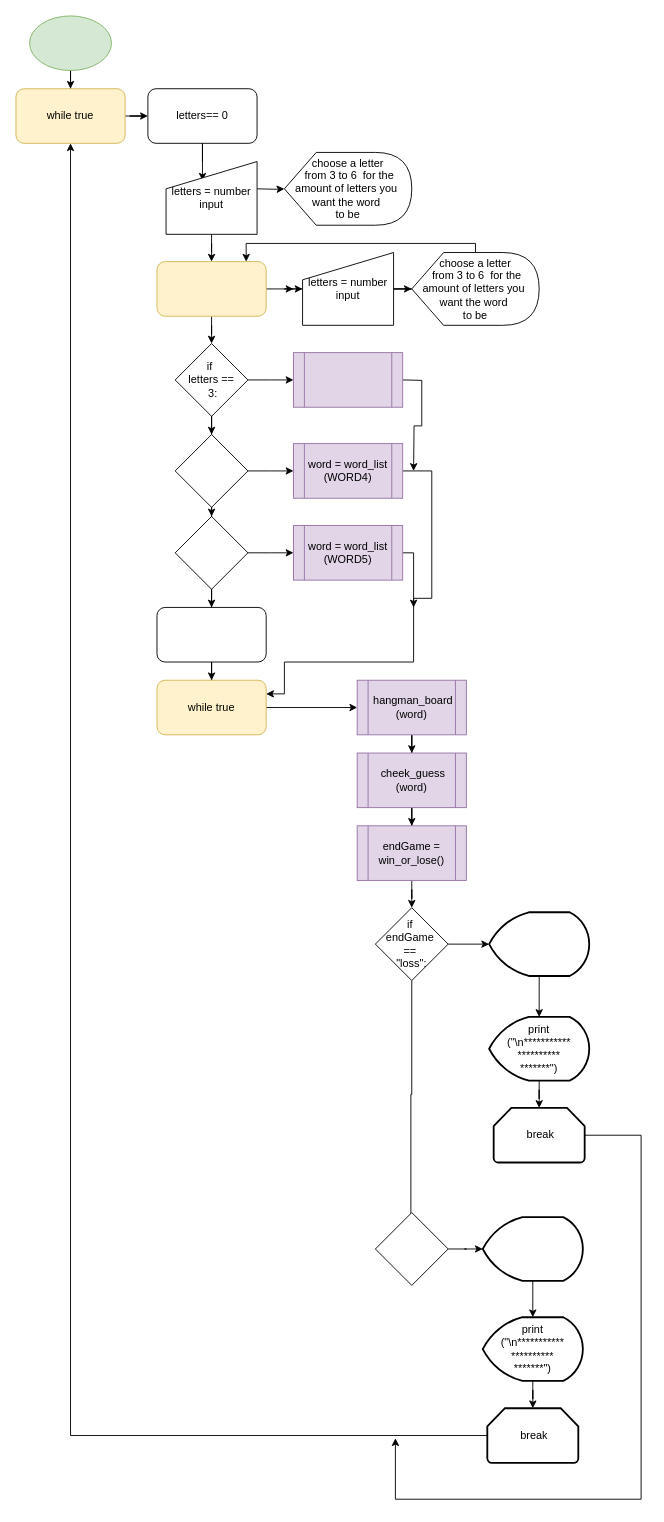
The diagram is 664 pixels wide and 1522 high, and some of its shapes have lost their labels. Each missing label, with the centre of its shape:
elif letters == 4:: pixel 211 470
elif letters == 5:: pixel 211 552
if endGame == "win" :: pixel 411 1248
print ("Game over the word was " + word): pixel 539 943
print("you win"): pixel 532 1248
start: pixel 70 43
while not letters >= 3 or not letters <= 6:: pixel 211 288
word = word_list (WORD3): pixel 348 379
word = word_list(WORD6): pixel 211 634
